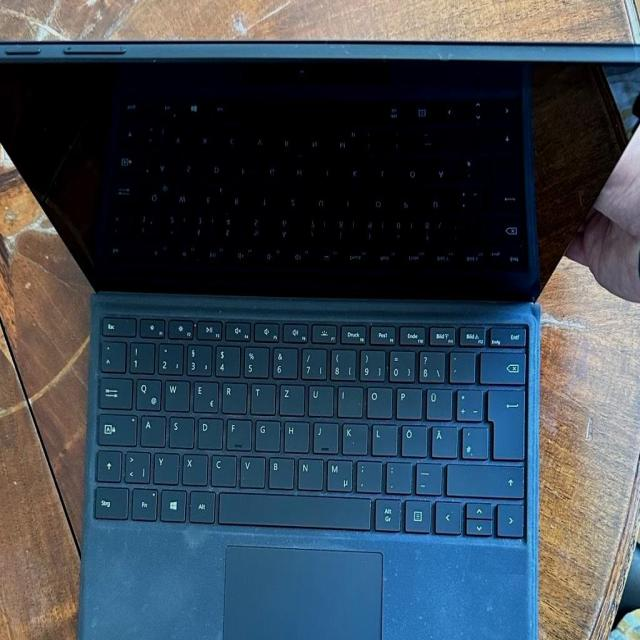0: (386, 346, 413, 380)
1: (127, 338, 153, 372)
2: (155, 340, 181, 373)
3: (184, 341, 209, 374)
4: (213, 341, 238, 374)
5: (241, 343, 266, 375)
6: (270, 343, 296, 376)
7: (299, 344, 324, 377)
8: (328, 346, 353, 379)
9: (357, 346, 382, 379)
a: (138, 411, 163, 445)
accent: (447, 347, 473, 381)
ae: (429, 422, 454, 455)
alt-left: (187, 487, 213, 521)
altgr-right: (373, 494, 401, 532)
b: (266, 453, 292, 486)
c: (208, 451, 234, 484)
caret: (97, 337, 123, 369)
comma: (354, 456, 379, 490)
d: (195, 415, 221, 448)
del: (477, 347, 525, 382)
e: (191, 377, 216, 410)
enter: (485, 385, 523, 458)
f: (225, 415, 250, 448)
g: (253, 416, 278, 449)
h: (281, 417, 307, 450)
hash: (459, 423, 486, 457)
i: (335, 382, 361, 415)
j: (311, 418, 336, 451)
k: (339, 419, 365, 452)
keyboard: (88, 307, 532, 542)
l: (369, 420, 395, 453)
less: (123, 447, 148, 481)
m: (324, 455, 350, 489)
minus: (413, 458, 439, 492)
n: (295, 454, 321, 488)
o: (366, 386, 393, 419)
oe: (399, 421, 425, 454)
p: (393, 384, 419, 417)
plus: (453, 385, 481, 418)
point: (383, 458, 410, 491)
q: (133, 375, 159, 408)
r: (220, 378, 245, 411)
s: (167, 413, 192, 446)
shift-left: (94, 447, 121, 480)
shift-lock: (94, 410, 135, 444)
shift-right: (445, 460, 523, 496)
space: (217, 489, 371, 527)
ss: (416, 347, 443, 380)
strg-left: (91, 482, 127, 517)
t: (248, 379, 273, 412)
tab: (96, 373, 130, 407)
u: (308, 384, 333, 417)
ue: (423, 384, 450, 418)
v: (238, 452, 263, 485)
w: (162, 375, 187, 409)
x: (180, 450, 205, 483)
y: (151, 448, 176, 482)
z: (280, 384, 305, 417)
